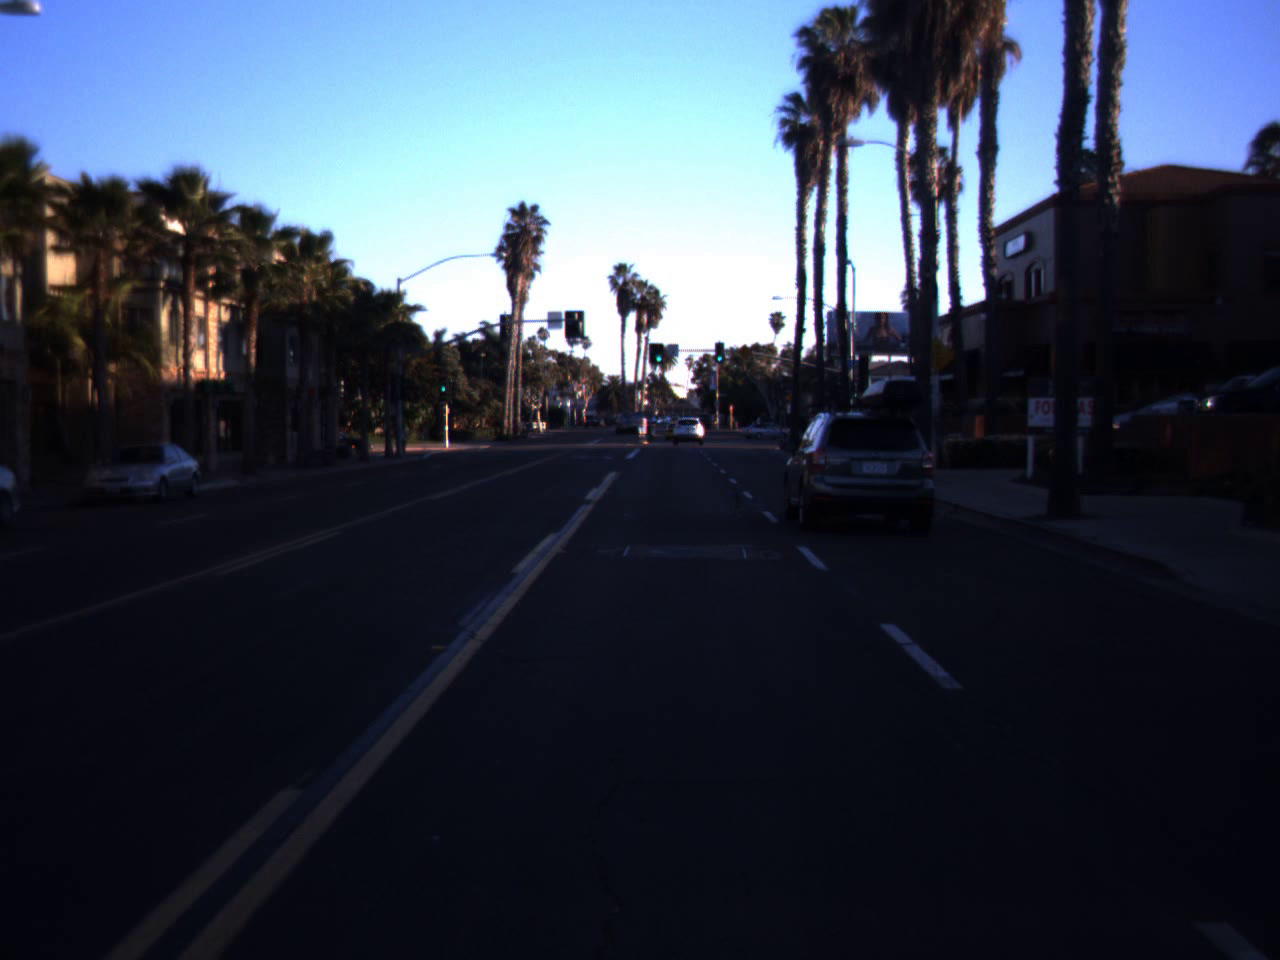go: (653, 343, 665, 363), (713, 343, 725, 363), (437, 373, 449, 393)
